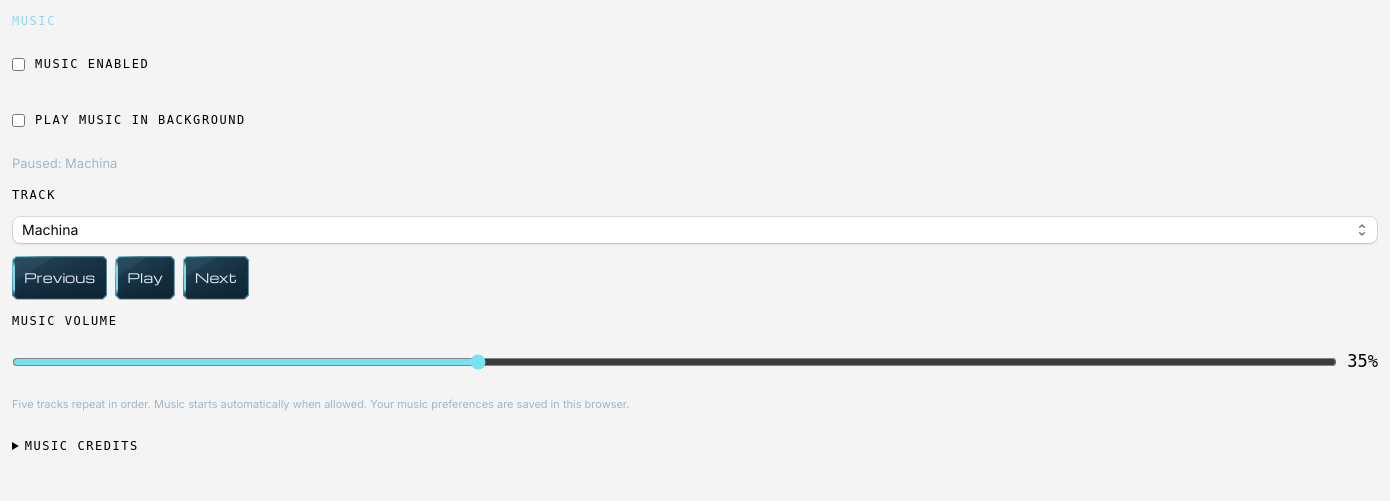
Scenario: ignores a cancelled play rejection after changing tracks, and offers retry for a real rejection
This screenshot has width=1390, height=501.
Click the button with aria-label "Play music" at coordinates (145, 278), box [115,256,175,300]
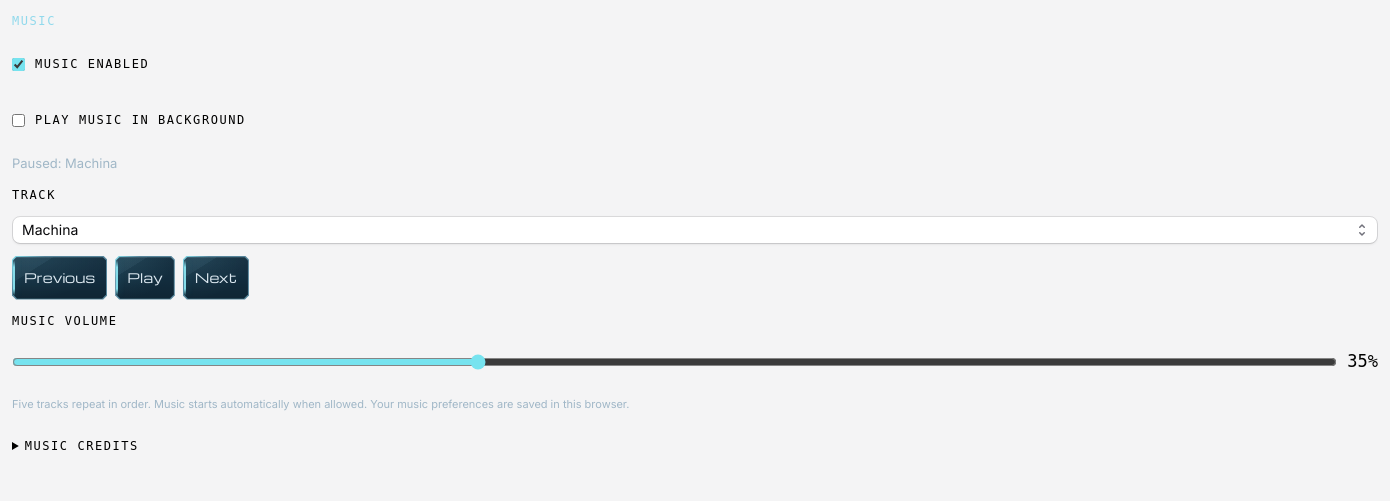
Click the button "Next" at coordinates (216, 278), box [183,256,249,300]
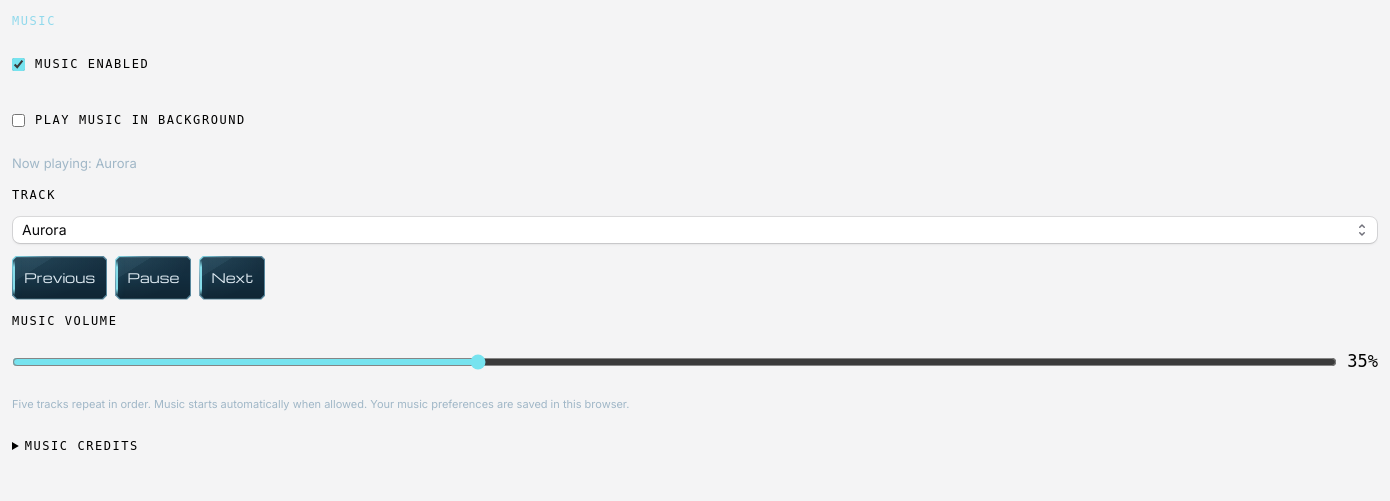
Click the button "Next" at coordinates (232, 278), box [199,256,265,300]
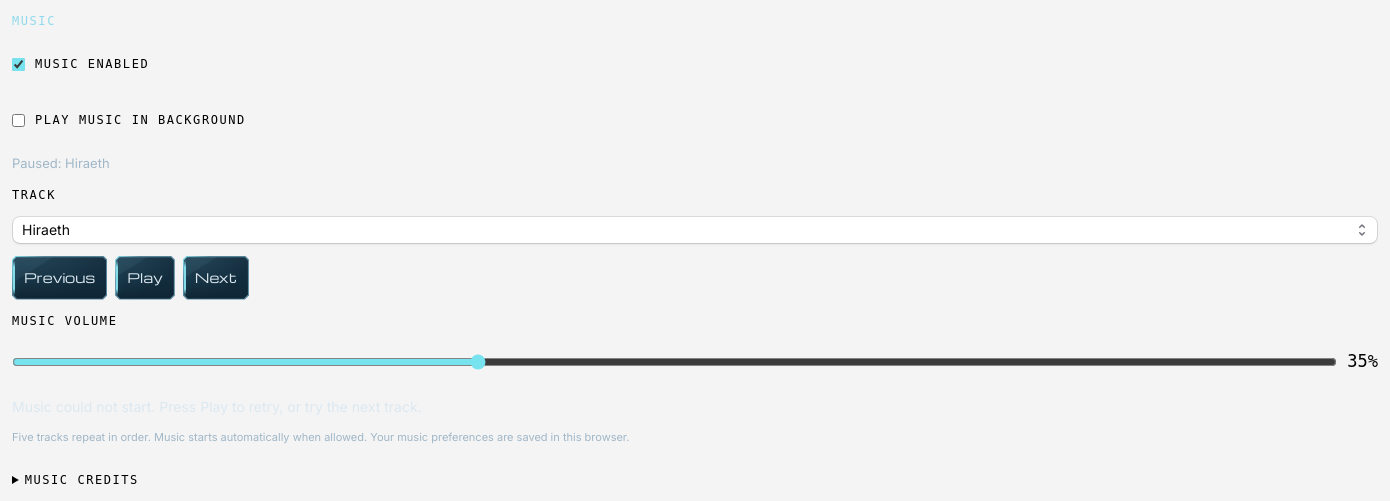
Click the button with aria-label "Play music" at coordinates (145, 278), box [115,256,175,300]
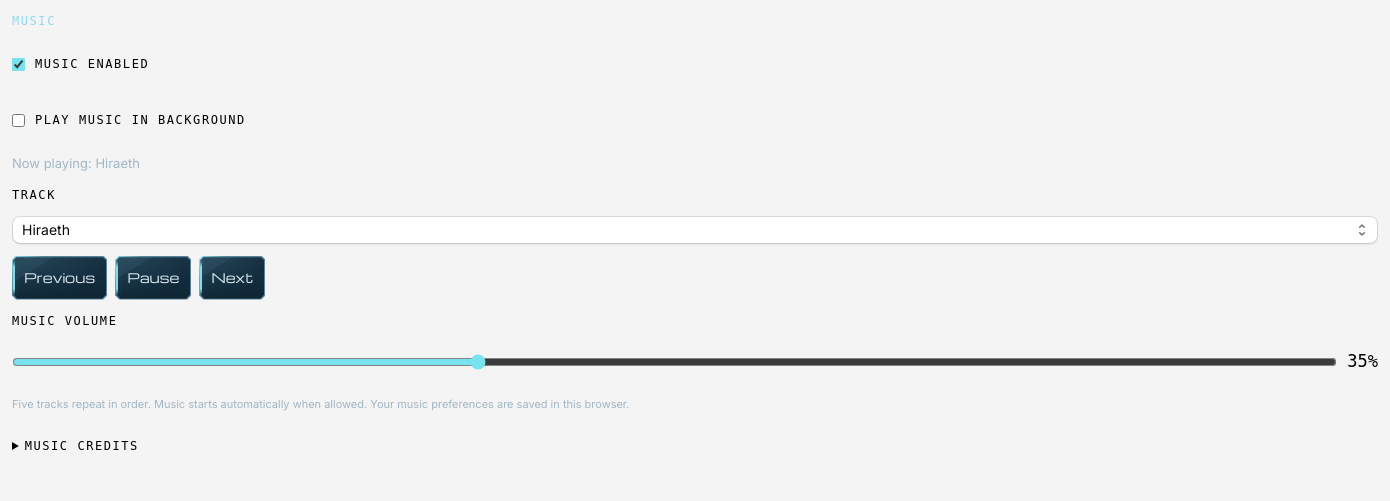
Result: the message "Music could not start. Press Play to retry, or try the next track." is gone
